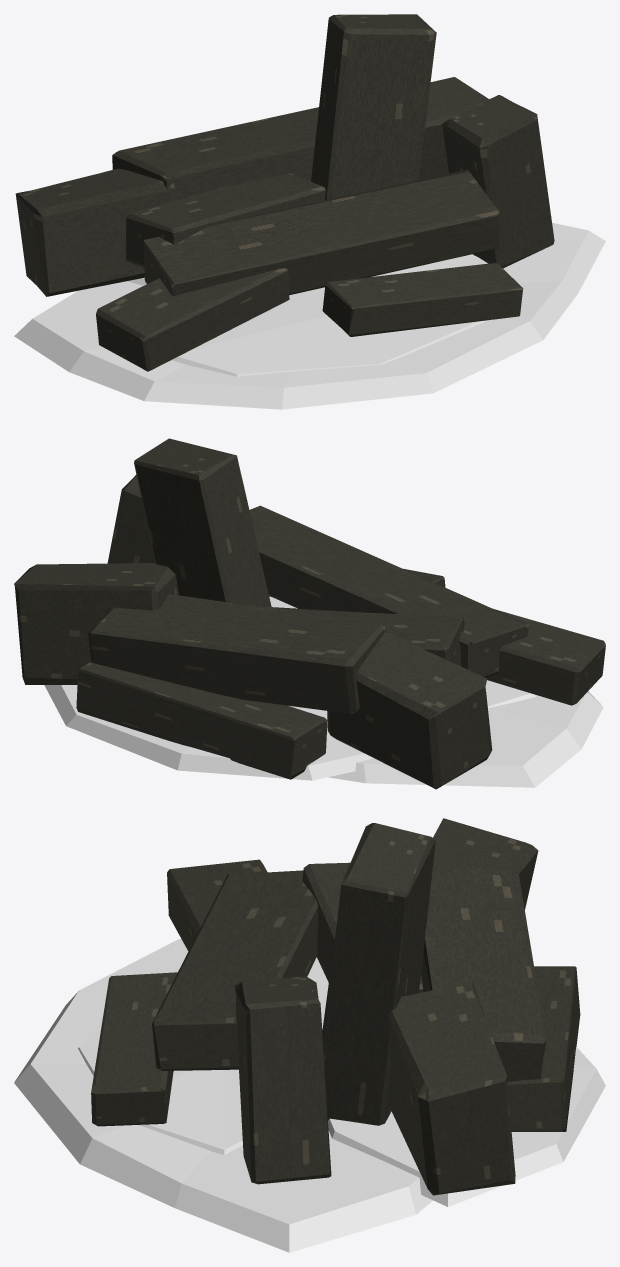
File: SM_GIA_BloodAxeCairnSlabCluster_A01_BacksideRepair_LOD3.fbx
The picture shows the model from 3 angles, top to bottom: view 1: azimuth 30°, elevation 25°; view 2: azimuth 150°, elevation 25°; view 3: azimuth 270°, elevation 25°; orthographic projection. The views are drawn at different scales.
Parts seen in each view (by area): view 1: LOD3_AshMudGroundingMound, LOD3_Stone_DominantBloodAxeFaceSlab, LOD3_Stone_RearUprightOathStone, LOD3_Stone_BackLeftButtressStone, LOD3_FrontMudAndStoneScuff, LOD3_Stone_RightStandingGuardStone, LOD3_Stone_LeftStackedForeSlab, LOD3_Stone_FrontBrokenCapstone, LOD3_Stone_BacksideCounterweightSlab, LOD3_Stone_RearLowSupportSlab, LOD3_Stone_BackRightButtressStone; view 2: LOD3_Stone_BacksideCounterweightSlab, LOD3_Stone_BackLeftButtressStone, LOD3_Stone_DominantBloodAxeFaceSlab, LOD3_Stone_RearUprightOathStone, LOD3_Stone_RearGroundLockWedge, LOD3_Stone_BackRightButtressStone, LOD3_AshMudGroundingMound, LOD3_BackMudAndStoneScuff, LOD3_Stone_LeftStackedForeSlab, LOD3_Stone_RearLowSupportSlab, LOD3_Stone_RightStandingGuardStone, LOD3_FrontMudAndStoneScuff; view 3: LOD3_AshMudGroundingMound, LOD3_Stone_RearUprightOathStone, LOD3_Stone_BackRightButtressStone, LOD3_Stone_DominantBloodAxeFaceSlab, LOD3_Stone_RightStandingGuardStone, LOD3_Stone_BacksideCounterweightSlab, LOD3_Stone_FrontBrokenCapstone, LOD3_BackMudAndStoneScuff, LOD3_Stone_RearGroundLockWedge, LOD3_FrontMudAndStoneScuff, LOD3_Stone_BackLeftButtressStone, LOD3_Stone_LeftStackedForeSlab (+1 smaller).
Boxes of the visible parts, x1=… form: LOD3_AshMudGroundingMound: x1=14, y1=222, x2=605, y2=409; LOD3_Stone_DominantBloodAxeFaceSlab: x1=143, y1=169, x2=500, y2=296; LOD3_Stone_RearUprightOathStone: x1=311, y1=14, x2=436, y2=200; LOD3_Stone_BackLeftButtressStone: x1=15, y1=168, x2=177, y2=296; LOD3_FrontMudAndStoneScuff: x1=171, y1=269, x2=485, y2=376; LOD3_Stone_RightStandingGuardStone: x1=442, y1=95, x2=554, y2=268; LOD3_Stone_LeftStackedForeSlab: x1=96, y1=268, x2=289, y2=371; LOD3_Stone_FrontBrokenCapstone: x1=322, y1=262, x2=523, y2=336; LOD3_Stone_BacksideCounterweightSlab: x1=112, y1=107, x2=318, y2=199; LOD3_Stone_RearLowSupportSlab: x1=126, y1=173, x2=325, y2=267; LOD3_Stone_BackRightButtressStone: x1=418, y1=77, x2=488, y2=179; LOD3_Stone_BacksideCounterweightSlab: x1=88, y1=594, x2=386, y2=713; LOD3_Stone_BackLeftButtressStone: x1=327, y1=632, x2=492, y2=789; LOD3_Stone_DominantBloodAxeFaceSlab: x1=249, y1=505, x2=529, y2=677; LOD3_Stone_RearUprightOathStone: x1=134, y1=438, x2=271, y2=607; LOD3_Stone_RearGroundLockWedge: x1=76, y1=662, x2=327, y2=779; LOD3_Stone_BackRightButtressStone: x1=14, y1=563, x2=178, y2=684; LOD3_AshMudGroundingMound: x1=269, y1=596, x2=603, y2=787; LOD3_BackMudAndStoneScuff: x1=44, y1=685, x2=373, y2=780; LOD3_Stone_LeftStackedForeSlab: x1=486, y1=609, x2=605, y2=705; LOD3_Stone_RearLowSupportSlab: x1=265, y1=607, x2=464, y2=666; LOD3_Stone_RightStandingGuardStone: x1=107, y1=474, x2=154, y2=563; LOD3_FrontMudAndStoneScuff: x1=270, y1=599, x2=536, y2=708; LOD3_AshMudGroundingMound: x1=14, y1=939, x2=432, y2=1252; LOD3_Stone_RearUprightOathStone: x1=322, y1=823, x2=435, y2=1125; LOD3_Stone_BackRightButtressStone: x1=388, y1=982, x2=515, y2=1195; LOD3_Stone_DominantBloodAxeFaceSlab: x1=152, y1=870, x2=317, y2=1070; LOD3_Stone_RightStandingGuardStone: x1=234, y1=976, x2=331, y2=1184; LOD3_Stone_BacksideCounterweightSlab: x1=421, y1=867, x2=546, y2=1081; LOD3_Stone_FrontBrokenCapstone: x1=91, y1=972, x2=177, y2=1126; LOD3_BackMudAndStoneScuff: x1=328, y1=1047, x2=605, y2=1206; LOD3_Stone_RearGroundLockWedge: x1=507, y1=966, x2=580, y2=1131; LOD3_FrontMudAndStoneScuff: x1=78, y1=965, x2=328, y2=1154; LOD3_Stone_BackLeftButtressStone: x1=433, y1=818, x2=538, y2=909; LOD3_Stone_LeftStackedForeSlab: x1=167, y1=859, x2=267, y2=950.
Size of the model in its own units: 376 by 161 by 291.
